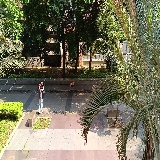fire: (71, 81, 75, 85)
